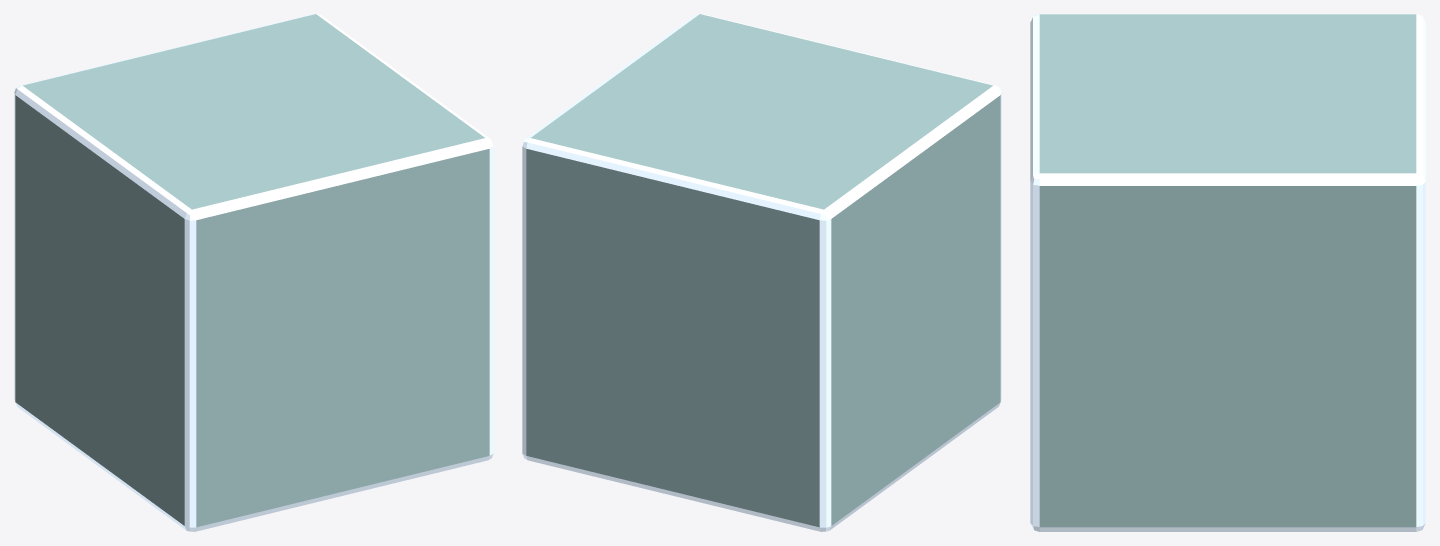
Rendered from ETH_anim.glb.
3 renders of one model, left to right at view 1: azimuth 30°, elevation 25°; view 2: azimuth 150°, elevation 25°; view 3: azimuth 270°, elevation 25°, orthographic. The views are drawn at different scales.
Parts seen in each view (by area): view 1: ETH_little.001; view 2: ETH_little.001; view 3: ETH_little.001.
Boxes of the visible parts, x1,y1,x2,y2 form: ETH_little.001: [14, 14, 493, 531]; ETH_little.001: [522, 14, 1001, 531]; ETH_little.001: [1030, 14, 1425, 531].
Bounding box in the file's own units: 0.45 × 0.45 × 0.45.
